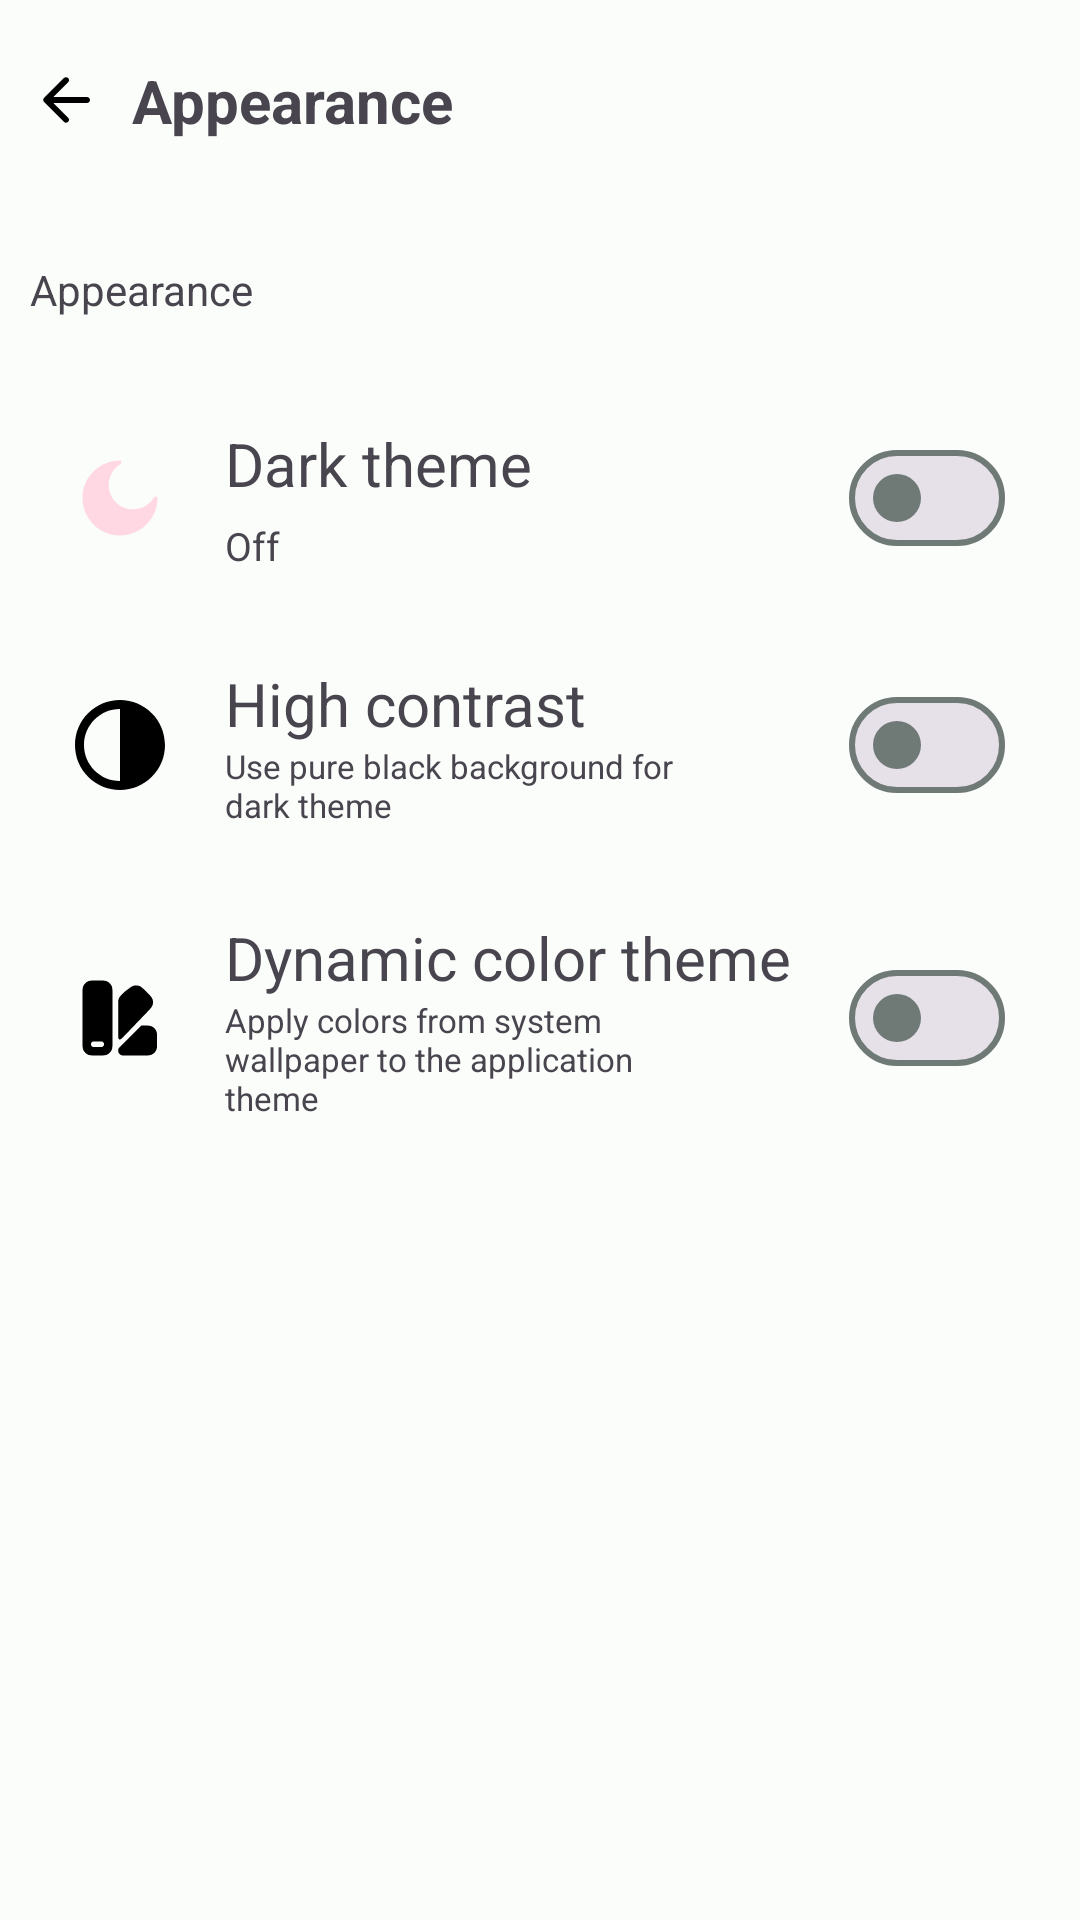

Named icons in this screenshot (1080x1920) and their centers, (x,y):
moon: (120,498)
